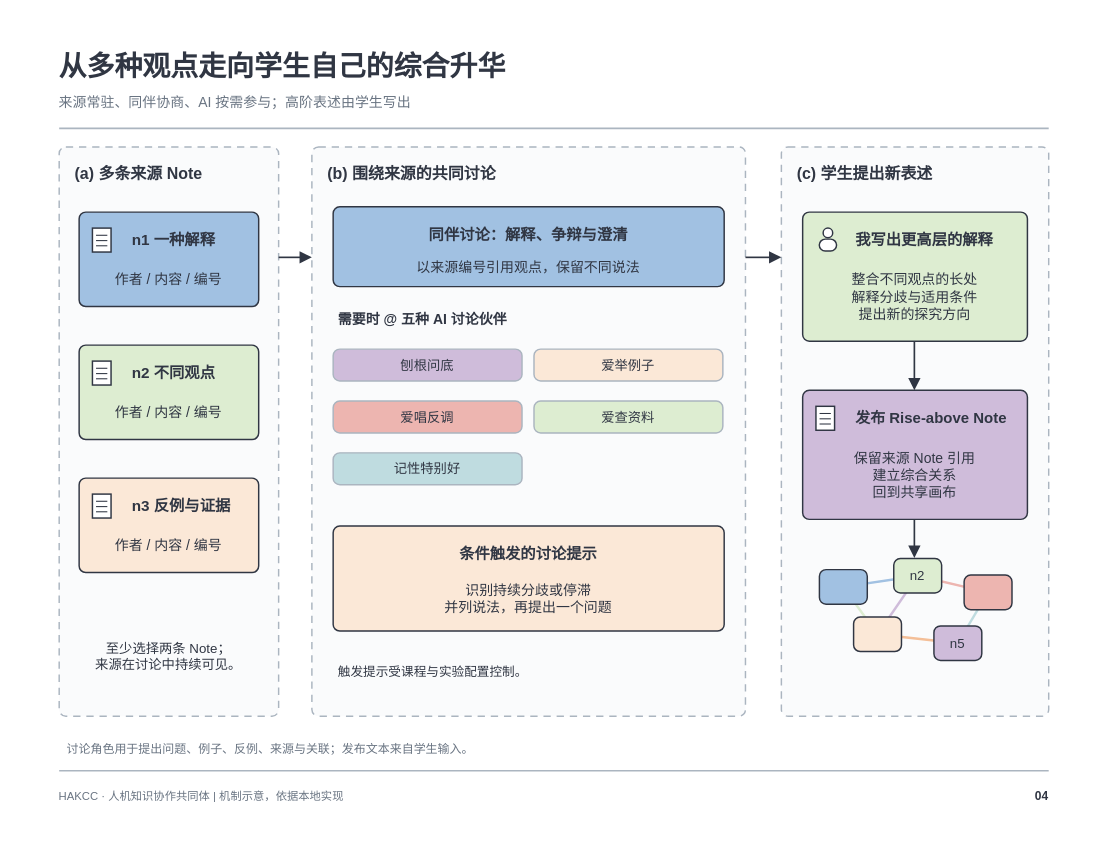
Some shapes in this 1108 by 842 pixel diagram are drawn without their labels. The box of each missing label's shape, as (x1, y1, x2, y2) in pixels:
n1: (818, 568, 867, 604)
n3: (963, 574, 1012, 610)
n4: (852, 616, 902, 652)
